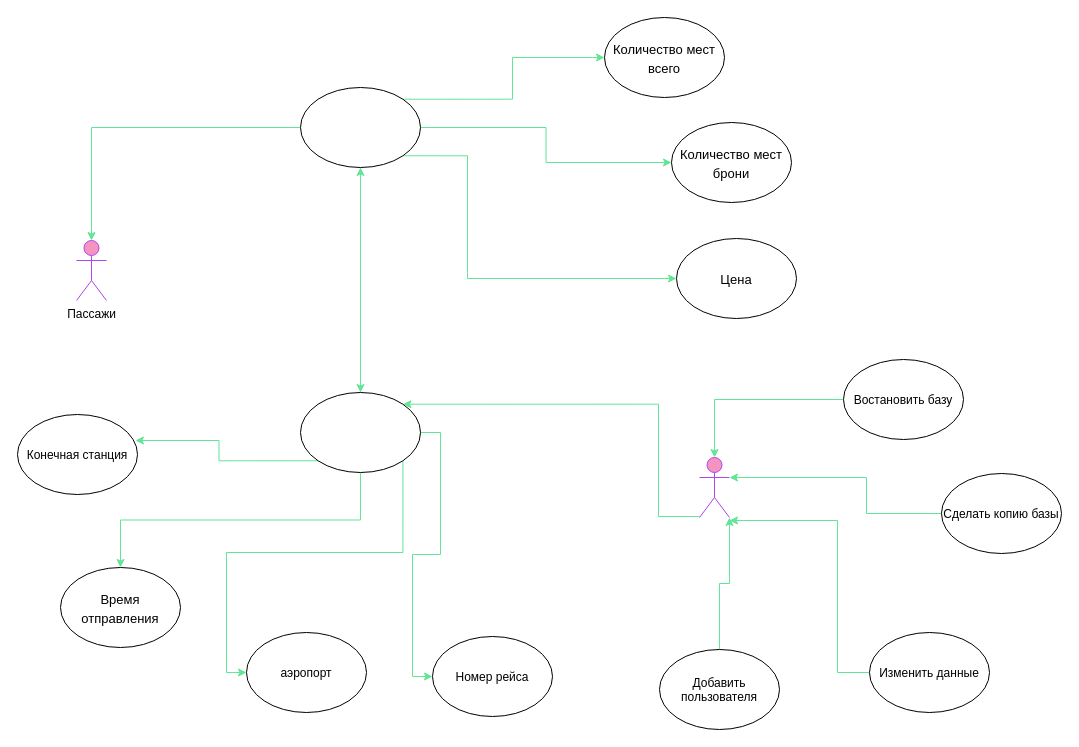
This 1079x747 diagram has some shape labels left out. Here are the shapes that lost their labels. From the top down, the centre of each, then its label:
point (360, 127): Заказ/Покупка билета
point (360, 432): Инф-ция по расписанию
point (714, 487): Администратор
